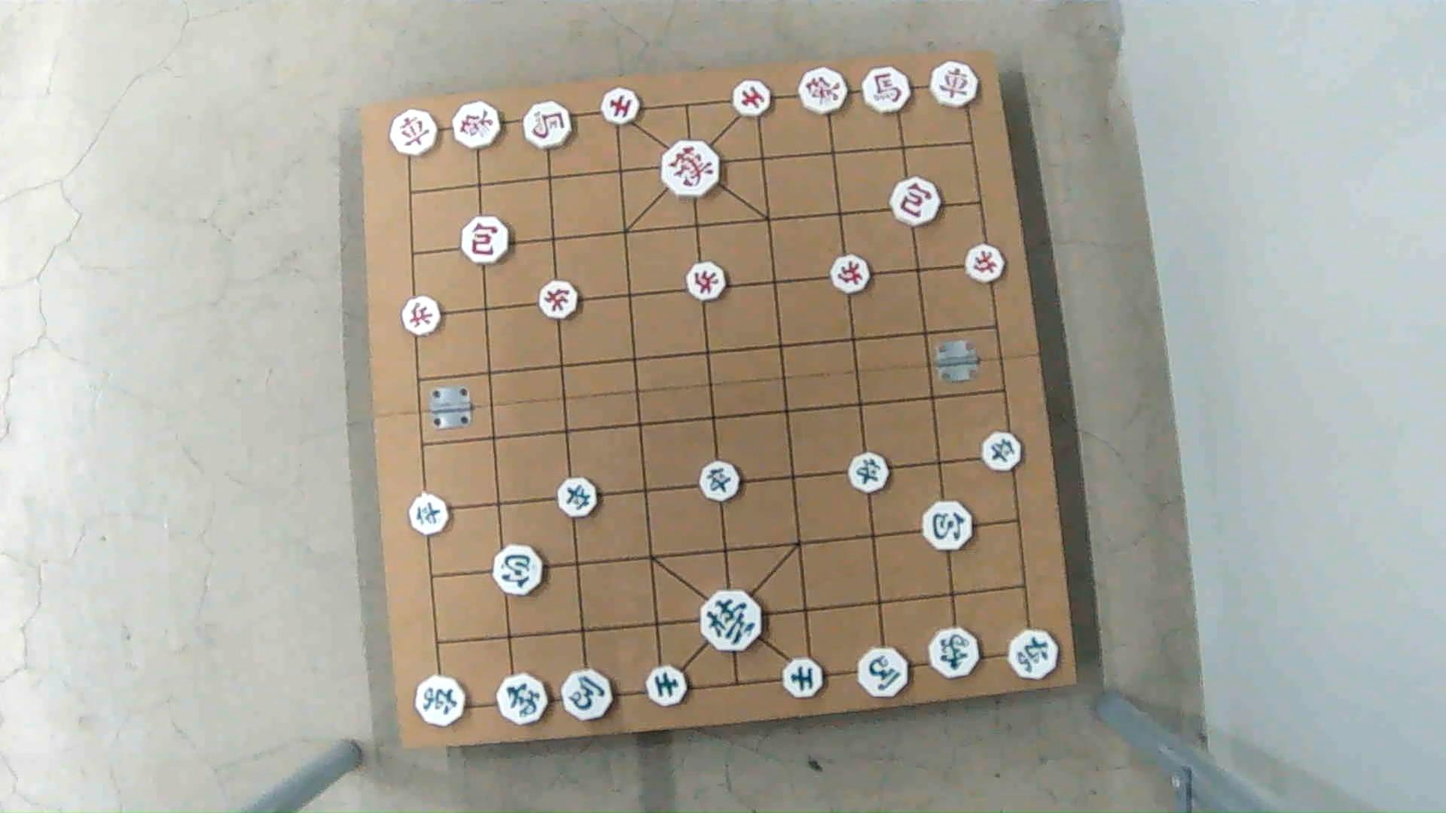cha_green: (415, 673, 468, 724), (1007, 633, 1062, 681)
cha_red: (929, 63, 981, 108), (390, 112, 443, 155)
jol_green: (404, 496, 450, 534), (978, 436, 1027, 470), (847, 455, 892, 491), (554, 479, 599, 515), (697, 462, 741, 498)
jol_red: (684, 263, 727, 300), (963, 248, 1008, 282), (828, 258, 871, 293), (535, 282, 578, 317), (399, 299, 443, 333)
ma_green: (857, 650, 911, 698), (557, 672, 612, 718)
ma_red: (520, 104, 575, 147), (859, 69, 912, 111)
po_green: (920, 504, 975, 550), (490, 547, 545, 592)
po_red: (459, 218, 511, 263), (890, 179, 942, 223)
sa_green: (646, 668, 690, 706), (782, 656, 822, 696)
sa_red: (599, 90, 644, 123), (730, 82, 772, 116)
sang_green: (494, 677, 551, 725), (927, 629, 981, 677)
sang_red: (450, 105, 504, 149), (797, 71, 850, 114)
wang_green: (698, 595, 763, 651)
wang_red: (661, 142, 720, 196)
